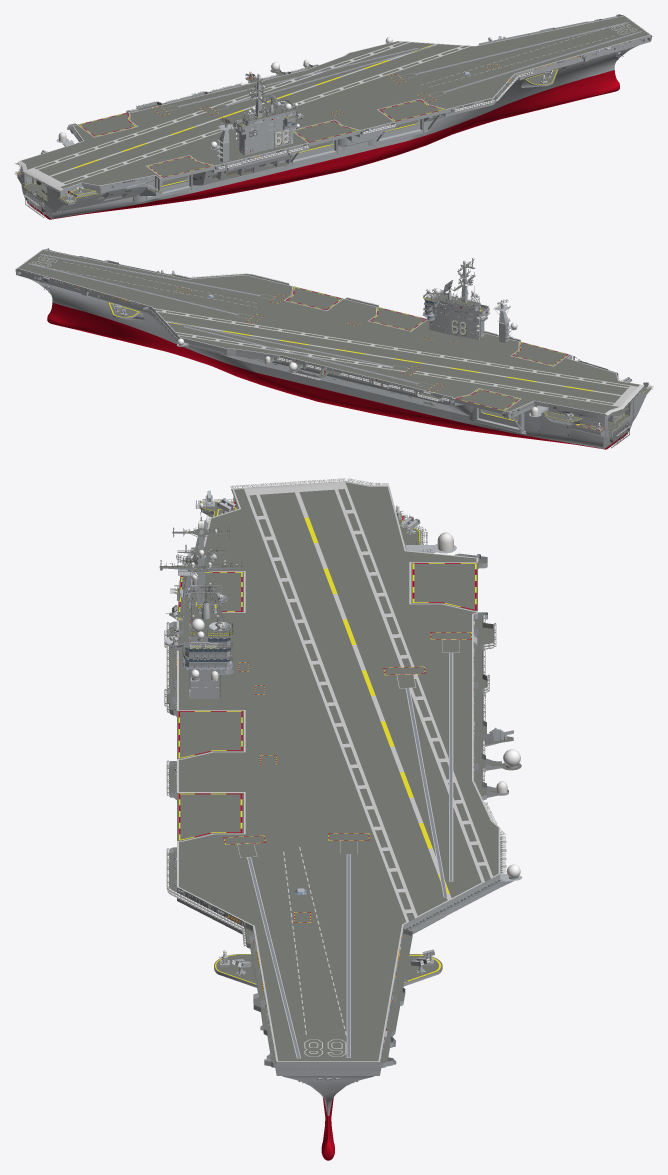
Rendered from uss_nimitz_cvn-68_aircraft_carrier.glb.
The picture shows the model from 3 angles, top to bottom: view 1: azimuth 30°, elevation 25°; view 2: azimuth 150°, elevation 25°; view 3: azimuth 270°, elevation 25°; orthographic projection. The views are drawn at different scales.
Visible parts, largest first — view 1: Material2 (×5), Material3 (×4); view 2: Material2 (×5), Material3 (×4); view 3: Material2 (×5), Material3 (×4).
Part boxes in pixels (<box>): Material2 (×5): <box>14,14,652,219</box>; Material3 (×4): <box>17,22,640,219</box>; Material2 (×5): <box>15,248,653,448</box>; Material3 (×4): <box>29,254,650,449</box>; Material2 (×5): <box>159,478,522,1115</box>; Material3 (×4): <box>164,498,520,1160</box>.
Bounding box in the file's own units: 13322 × 2910 × 3601.
